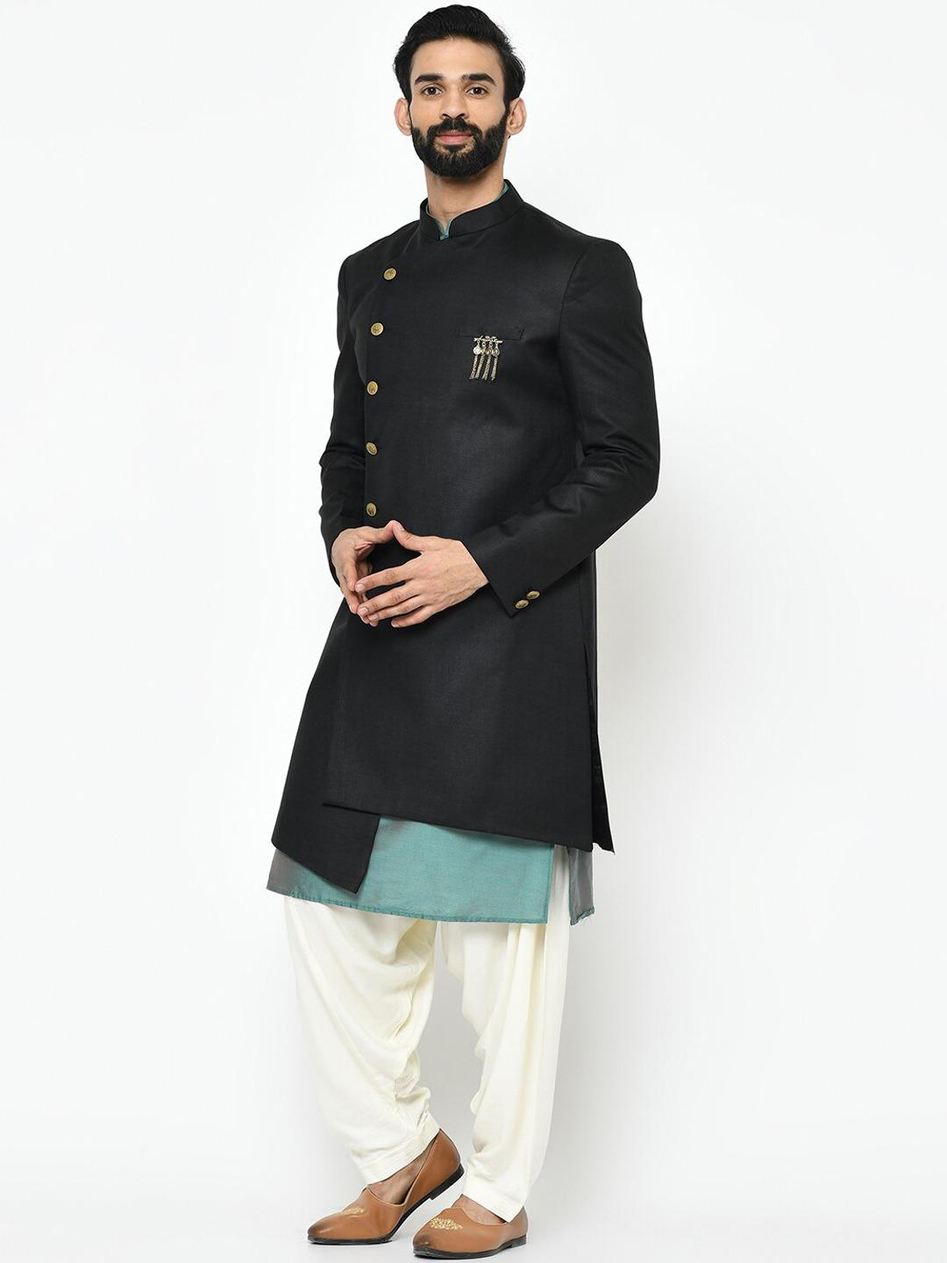Plain sherwani: (265, 183, 662, 899)
